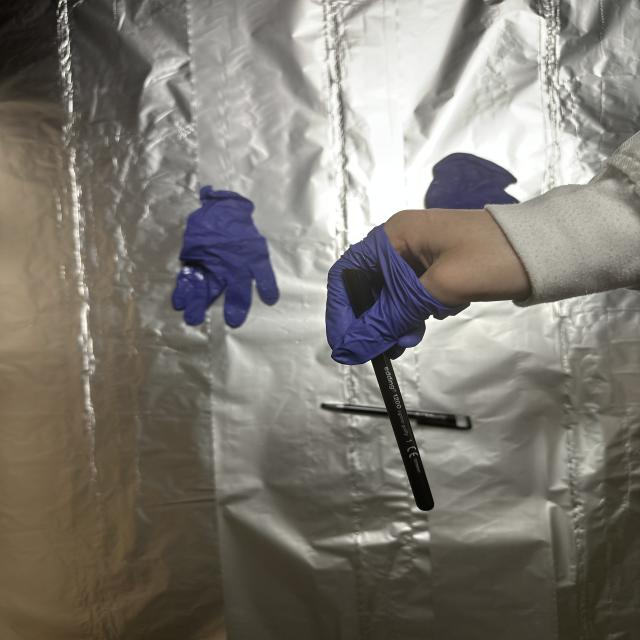glove_partial: (323, 207, 530, 364)
